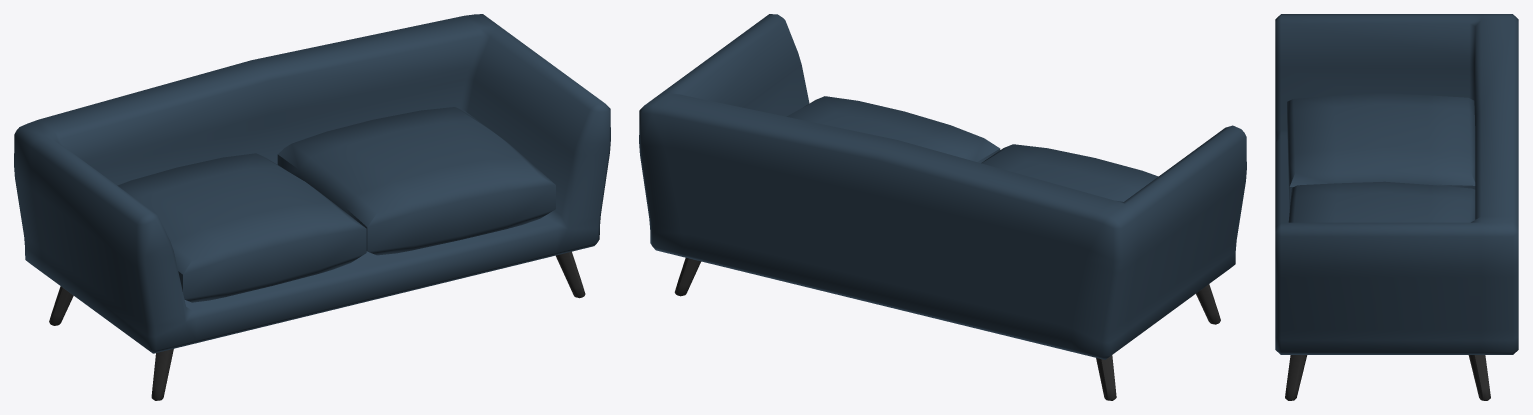
3 views of the same model, side by side, from view 1: azimuth 30°, elevation 25°; view 2: azimuth 150°, elevation 25°; view 3: azimuth 270°, elevation 25° (orthographic). The views are drawn at different scales.
Visible parts, largest first — view 1: Couch_Medium1; view 2: Couch_Medium1; view 3: Couch_Medium1.
Part boxes in pixels (x1,y1,x2,y2): Couch_Medium1: (14, 14, 610, 400); Couch_Medium1: (639, 14, 1246, 400); Couch_Medium1: (1275, 14, 1518, 400).
Size of the model in its own units: 4.69 by 1.91 by 2.2.
